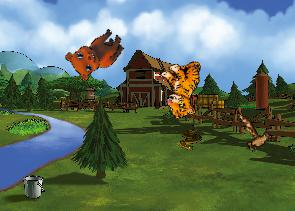bear: (60, 17, 129, 87)
eagle: (227, 110, 282, 158)
tiger: (154, 55, 214, 121)
